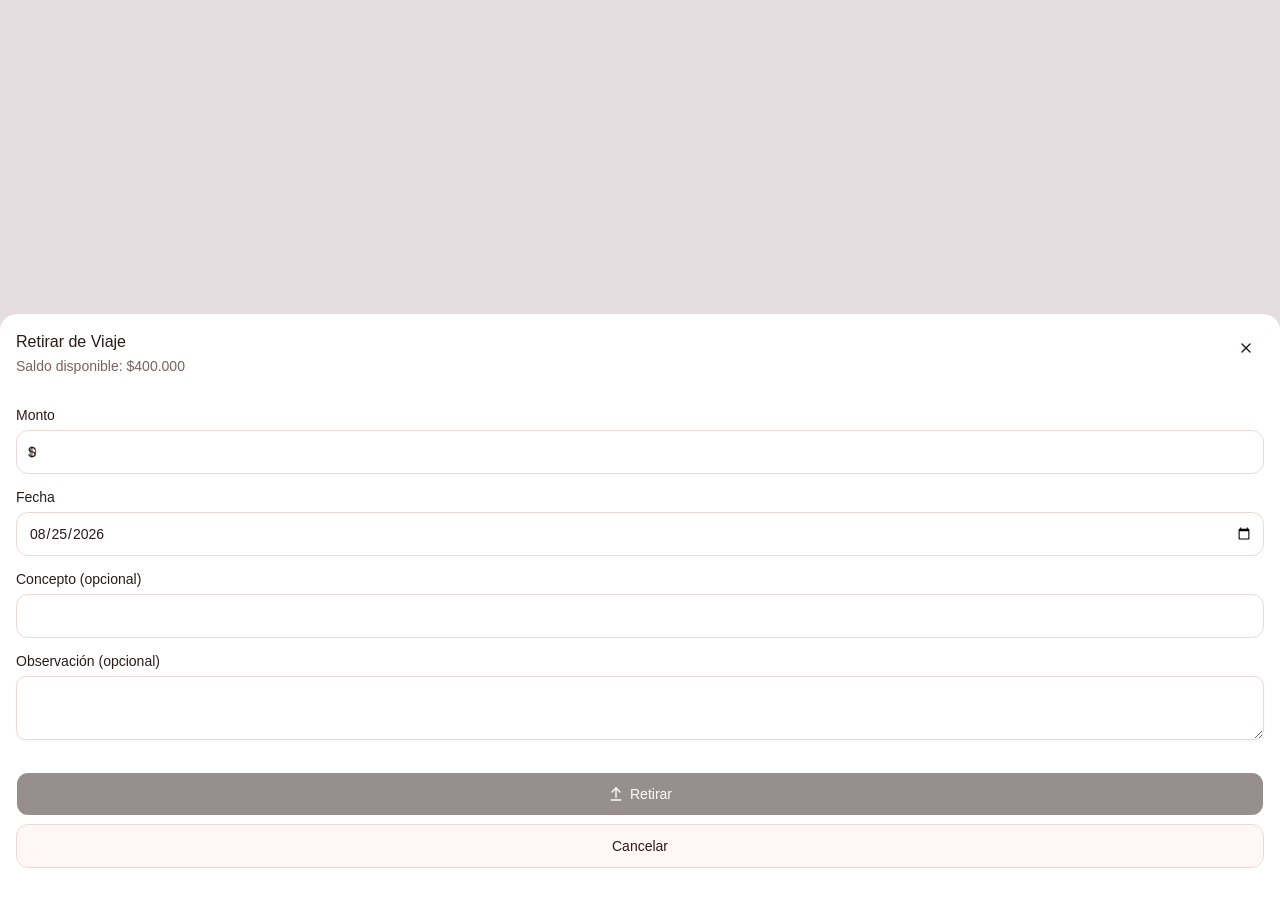
Scenario: SavingsMovementForm › shows available balance and blocks an excessive withdrawal
Expected: the heading "Retirar de Viaje" is shown, [16,333,126,350]
Expected: the text "Saldo disponible: $400.000" is shown, [16,358,185,374]
Type "400001" into the field labelled "Monto".
click(640, 452); type("400001")  # box [16,430,1264,474]
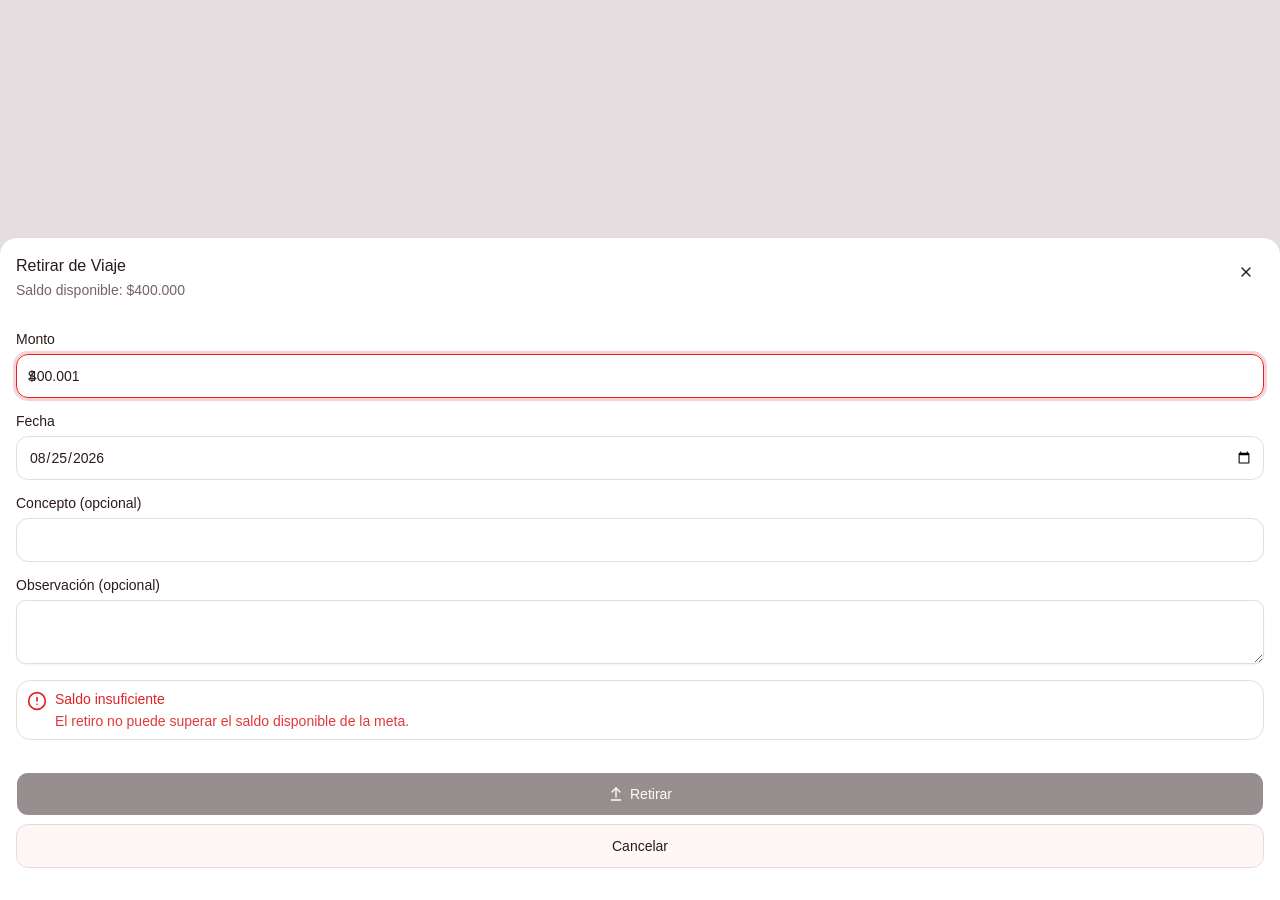
Expected: the button "Retirar" is disabled, [16,772,1264,816]
Expected: the text "Saldo insuficiente" is shown, [55,691,165,707]
